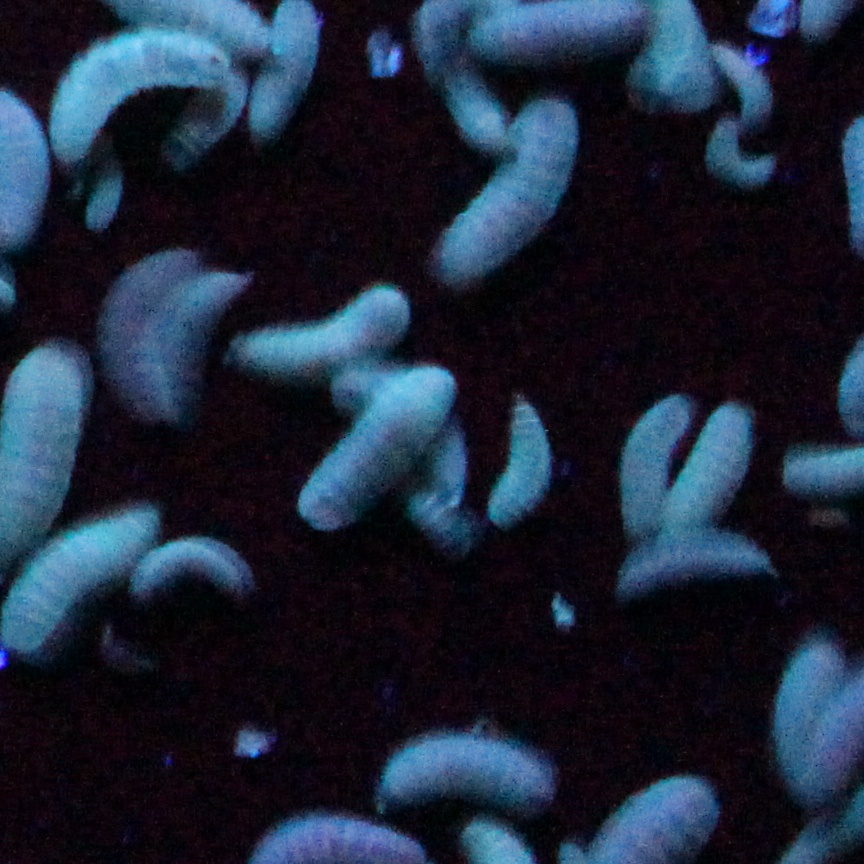larve: (442, 97, 582, 286), (51, 28, 236, 162), (311, 368, 456, 533), (0, 517, 145, 648), (227, 284, 411, 373), (102, 251, 194, 426), (154, 271, 251, 428), (378, 733, 560, 811), (609, 395, 698, 535), (676, 397, 756, 542), (609, 528, 774, 597), (776, 642, 847, 802), (428, 56, 513, 153), (491, 393, 551, 528), (136, 537, 251, 595), (705, 120, 780, 186), (716, 43, 774, 118), (411, 495, 482, 544)
